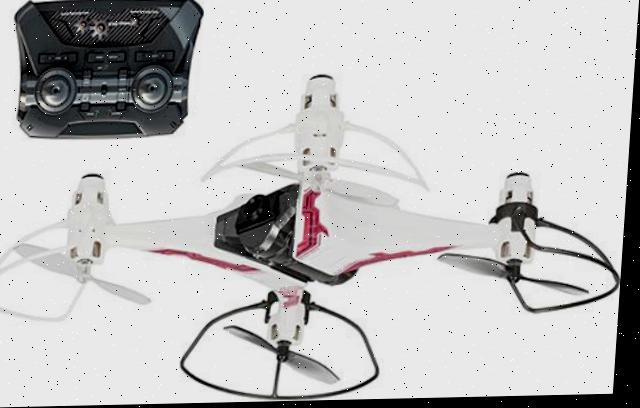drone: (0, 65, 636, 404)
